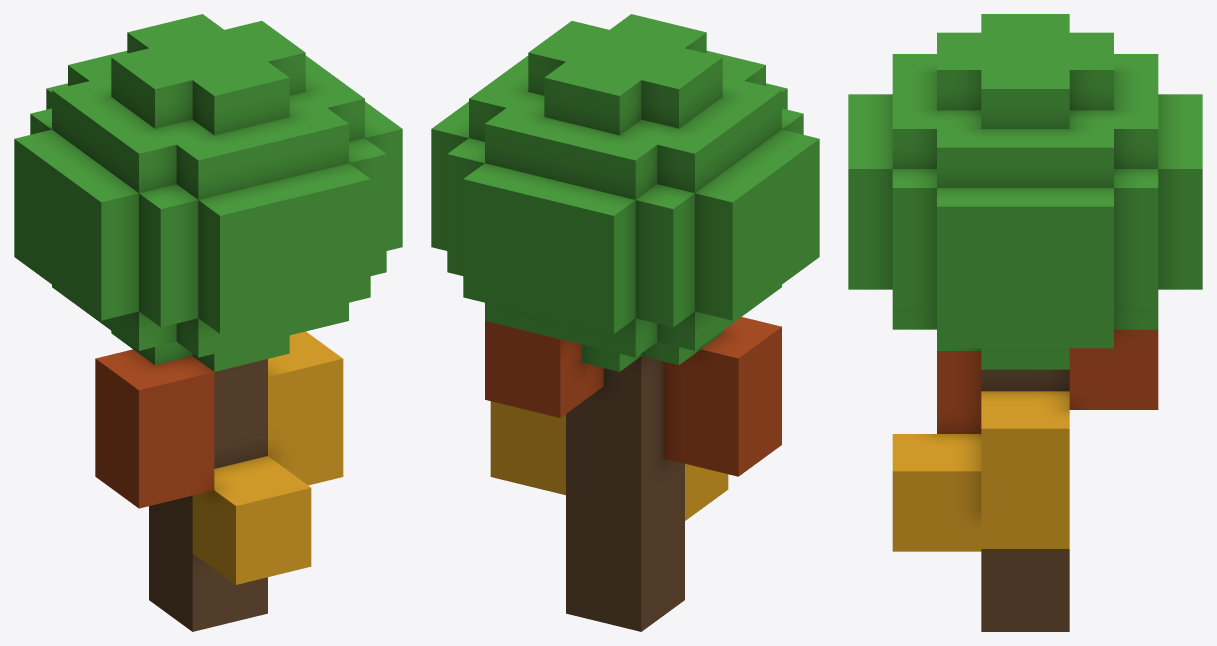
The model's file is r_cocoa.glb.
The picture shows the model from 3 angles, left to right: view 1: azimuth 30°, elevation 25°; view 2: azimuth 150°, elevation 25°; view 3: azimuth 270°, elevation 25°; orthographic projection.
Parts seen in each view (by area): view 1: r_cocoa_body; view 2: r_cocoa_body; view 3: r_cocoa_body.
Part boxes in pixels (x1,y1,x2,y2): r_cocoa_body: [14, 14, 402, 631]; r_cocoa_body: [431, 14, 819, 631]; r_cocoa_body: [848, 14, 1202, 631].
Size of the model in its own units: 0.5 by 0.875 by 0.5.
1 material, 1 textured.
